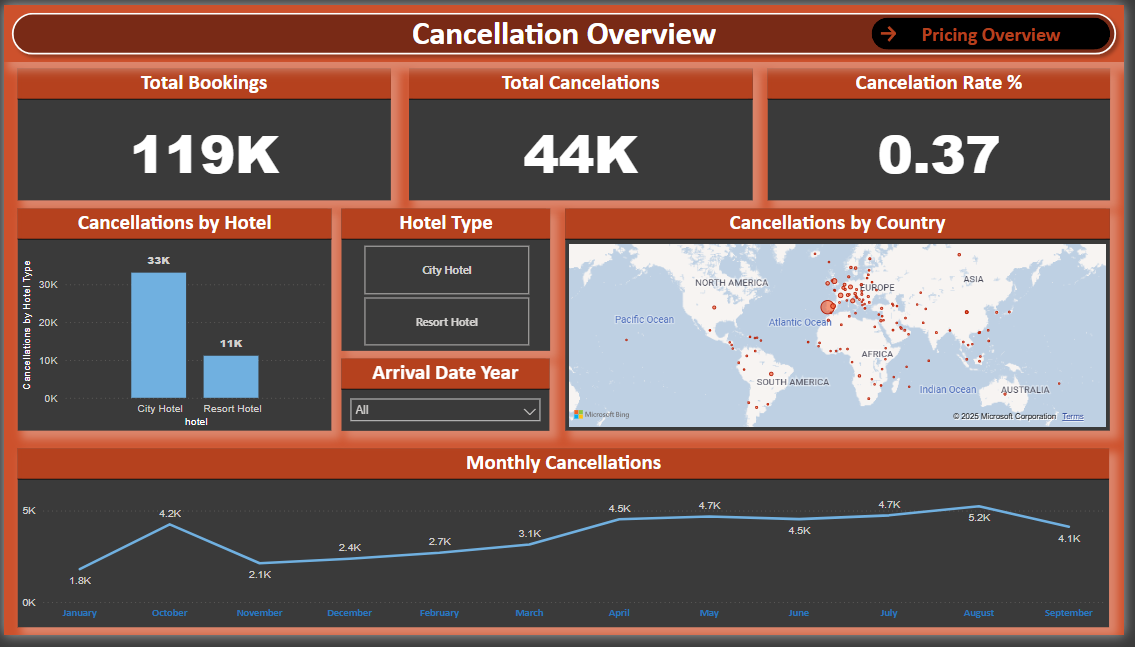

What the dashboard file says about the page in this screenshot:
{"tool":"powerbi","page":{"name":"Cancellation Overview","canvas":[1280,720],"ordinal":0},"visuals":[{"type":"card","title":"Total Bookings","fields":{"Values":["BaseMeasure.Total_Bookings"]},"box":[16.2,72.5,426.2,150],"z":0},{"type":"card","title":"Total Cancelations","fields":{"Values":["BaseMeasure.Total_Cancellations"]},"box":[462.5,72.5,392.5,150],"z":1000},{"type":"card","title":"Cancelation Rate %","fields":{"Values":["Avg(hotel_booking.is_canceled)"]},"box":[872.5,72.5,391.2,150],"z":2000},{"type":"clusteredColumnChart","title":"Cancellations by Hotel ","fields":{"Y":["BaseMeasure.Cancellations by Hotel Type"],"Category":["hotel_booking.hotel"]},"box":[16.2,232.5,358.8,253.8],"z":3000},{"type":"lineChart","title":"Monthly Cancellations ","fields":{"Category":["hotel_booking.arrival_date_month"],"Y":["Cancelation Overview.Total_Cancellations"]},"box":[16.3,506.8,1247.6,203.7],"z":4000},{"type":"map","title":"Cancellations by Country ","fields":{"Category":["hotel_booking.country"],"Size":["Cancelation Overview.Total_Cancellations"]},"box":[641.2,232.5,622.5,253.8],"z":5000},{"type":"slicer","title":"Hotel Type","fields":{"Values":["hotel_booking.hotel"]},"box":[386.2,232.5,238.8,162.5],"z":6000},{"type":"slicer","title":"Arrival Date Year","fields":{"Values":["hotel_booking.arrival_date_year"]},"box":[386.2,403.8,237.5,82.5],"z":7000},{"type":"shape","title":"Strategic Suggestions Dashboard","box":[0,0,1280,65.7],"z":8000},{"type":"actionButton","box":[991.4,14.3,272.9,37.1],"z":9000}]}

Visuals, with their boxes in screenshot pixels (x1, y1, x2, y2), scaled from the page's 1280x720 canvas onto the 1135x647 screenshot:
"Total Bookings" card: x1=14, y1=65, x2=392, y2=200
"Total Cancelations" card: x1=410, y1=65, x2=758, y2=200
"Cancelation Rate %" card: x1=774, y1=65, x2=1121, y2=200
"Cancellations by Hotel " clusteredColumnChart: x1=14, y1=209, x2=333, y2=437
"Monthly Cancellations " lineChart: x1=14, y1=455, x2=1121, y2=638
"Cancellations by Country " map: x1=569, y1=209, x2=1121, y2=437
"Hotel Type" slicer: x1=342, y1=209, x2=554, y2=355
"Arrival Date Year" slicer: x1=342, y1=363, x2=553, y2=437
"Strategic Suggestions Dashboard" shape: x1=0, y1=0, x2=1134, y2=59
actionButton: x1=879, y1=13, x2=1121, y2=46
